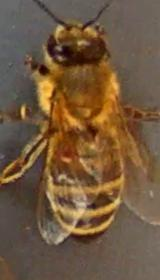varroa_mite: (38, 138, 82, 168)
